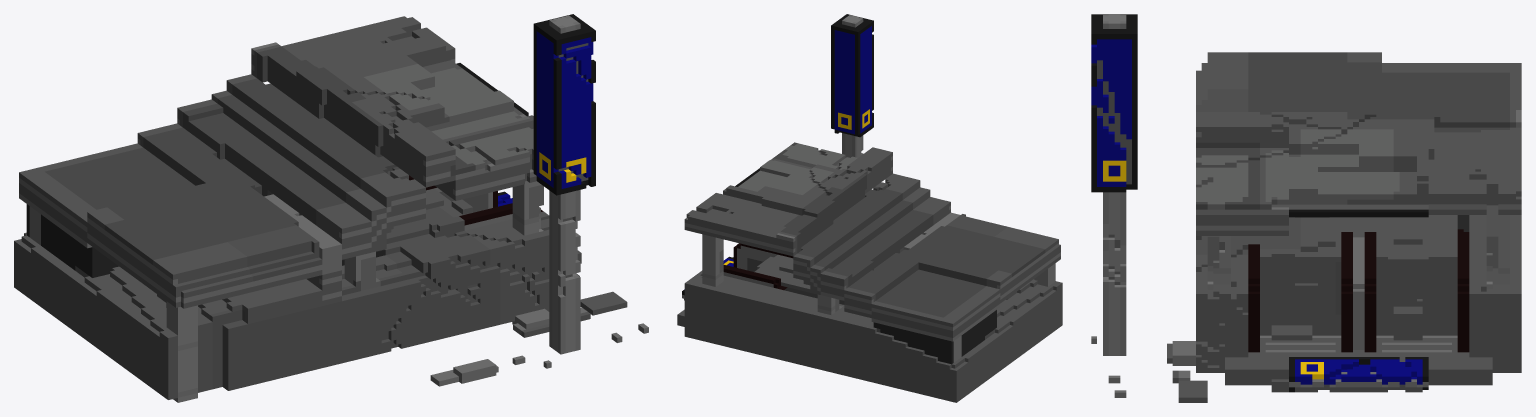
The model's file is subway.obj.
3 renders of one model, left to right at view 1: azimuth 30°, elevation 25°; view 2: azimuth 150°, elevation 25°; view 3: azimuth 270°, elevation 25°, orthographic. The views are drawn at different scales.
Bounding box in the file's own units: 9 × 6.4 × 7.4.
Materials: 1 (1 with a texture image).
